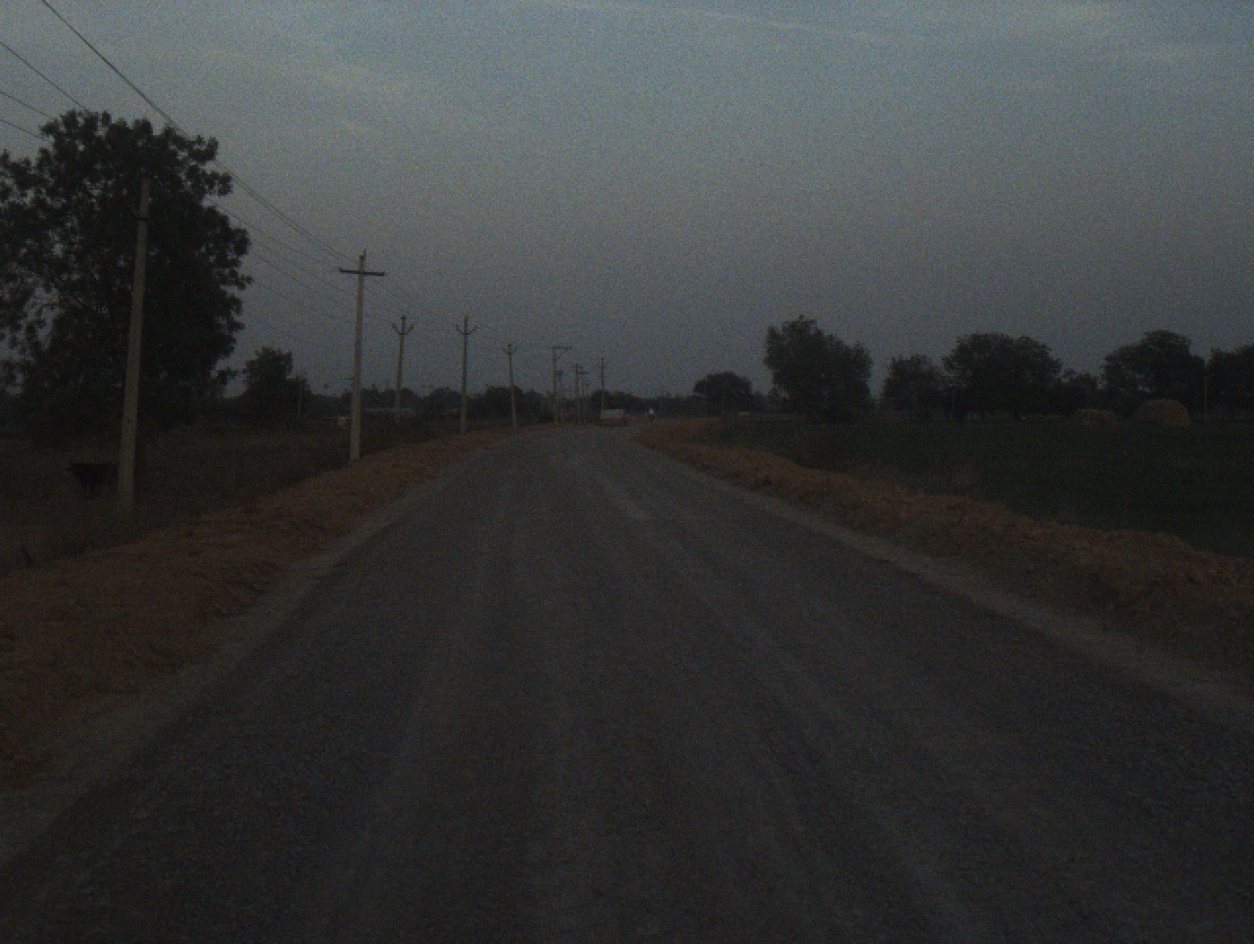vehicle fallback: (598, 388, 626, 424)
